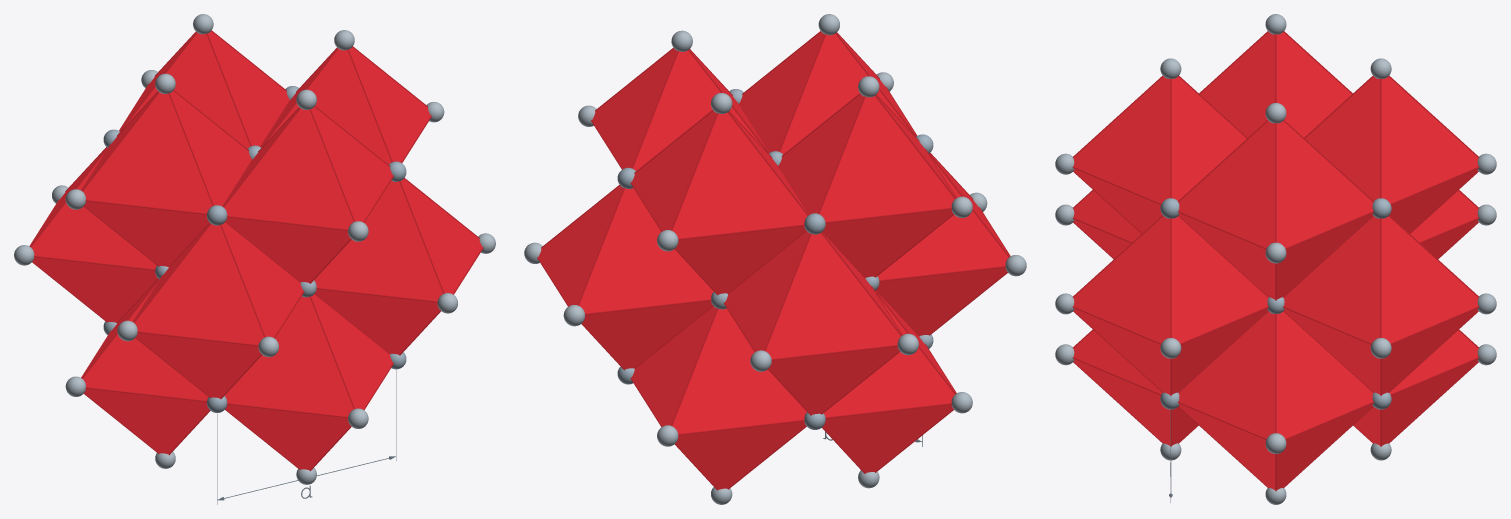
File: kfz-kugelmittelpunkte.glb
The picture shows the model from 3 angles, left to right: view 1: azimuth 30°, elevation 25°; view 2: azimuth 150°, elevation 25°; view 3: azimuth 270°, elevation 25°; orthographic projection. The views are drawn at different scales.
Visible parts, largest first — view 1: oktaeder_kante_z01_flaechen, oktaeder_kante_y01_flaechen, oktaeder_kante_x11_flaechen, oktaeder_kante_y11_flaechen, oktaeder_kante_x01_flaechen, oktaeder_kante_y00_flaechen, oktaeder_kante_z00_flaechen, oktaeder_kante_x10_flaechen, oktaeder_kante_z11_flaechen, oktaeder_kante_x11_kanten, oktaeder_kante_y01_kanten, oktaeder_kante_z01_kanten (+15 smaller); view 2: oktaeder_kante_x10_flaechen, oktaeder_kante_z01_flaechen, oktaeder_kante_y00_flaechen, oktaeder_kante_x00_flaechen, oktaeder_kante_y10_flaechen, oktaeder_kante_y01_flaechen, oktaeder_kante_z00_flaechen, oktaeder_kante_x11_flaechen, oktaeder_kante_z11_flaechen, oktaeder_kante_x10_kanten, oktaeder_kante_y00_kanten, oktaeder_kante_z01_kanten (+15 smaller); view 3: oktaeder_kante_y10_flaechen, oktaeder_kante_y11_flaechen, oktaeder_kante_z10_flaechen, oktaeder_kante_z11_flaechen, oktaeder_kante_x10_flaechen, oktaeder_kante_x11_flaechen, oktaeder_kante_z01_flaechen, oktaeder_kante_x00_flaechen, oktaeder_kante_x01_flaechen, oktaeder_kante_y00_flaechen, oktaeder_kante_y01_flaechen, oktaeder_kante_y10_kanten (+15 smaller).
Boxes of the visible parts, left/top/right/bottom form: oktaeder_kante_z01_flaechen: left=81, top=91, right=251, bottom=266; oktaeder_kante_y01_flaechen: left=133, top=222, right=303, bottom=398; oktaeder_kante_x11_flaechen: left=223, top=107, right=392, bottom=282; oktaeder_kante_y11_flaechen: left=314, top=179, right=482, bottom=354; oktaeder_kante_x01_flaechen: left=224, top=294, right=392, bottom=470; oktaeder_kante_y00_flaechen: left=30, top=148, right=157, bottom=322; oktaeder_kante_z00_flaechen: left=82, top=279, right=209, bottom=454; oktaeder_kante_x10_flaechen: left=119, top=31, right=289, bottom=148; oktaeder_kante_z11_flaechen: left=261, top=47, right=430, bottom=164; oktaeder_kante_x11_kanten: left=222, top=106, right=393, bottom=283; oktaeder_kante_y01_kanten: left=133, top=223, right=304, bottom=399; oktaeder_kante_z01_kanten: left=81, top=90, right=248, bottom=266; oktaeder_kante_x10_flaechen: left=631, top=111, right=808, bottom=294; oktaeder_kante_z01_flaechen: left=778, top=94, right=955, bottom=277; oktaeder_kante_y00_flaechen: left=725, top=231, right=902, bottom=414; oktaeder_kante_x00_flaechen: left=631, top=306, right=806, bottom=489; oktaeder_kante_y10_flaechen: left=538, top=185, right=713, bottom=369; oktaeder_kante_y01_flaechen: left=876, top=153, right=1009, bottom=335; oktaeder_kante_z00_flaechen: left=823, top=290, right=955, bottom=472; oktaeder_kante_x11_flaechen: left=739, top=32, right=916, bottom=154; oktaeder_kante_z11_flaechen: left=592, top=48, right=769, bottom=170; oktaeder_kante_x10_kanten: left=630, top=110, right=809, bottom=295; oktaeder_kante_y00_kanten: left=723, top=231, right=902, bottom=415; oktaeder_kante_z01_kanten: left=781, top=93, right=956, bottom=277; oktaeder_kante_y10_flaechen: left=1283, top=216, right=1478, bottom=394; oktaeder_kante_y11_flaechen: left=1073, top=216, right=1268, bottom=394; oktaeder_kante_z10_flaechen: left=1178, top=311, right=1373, bottom=489; oktaeder_kante_z11_flaechen: left=1178, top=121, right=1373, bottom=299; oktaeder_kante_x10_flaechen: left=1305, top=76, right=1478, bottom=233; oktaeder_kante_x11_flaechen: left=1073, top=76, right=1246, bottom=233; oktaeder_kante_z01_flaechen: left=1200, top=32, right=1351, bottom=137; oktaeder_kante_x00_flaechen: left=1354, top=330, right=1478, bottom=445; oktaeder_kante_x01_flaechen: left=1073, top=330, right=1197, bottom=445; oktaeder_kante_y00_flaechen: left=1410, top=190, right=1478, bottom=258; oktaeder_kante_y01_flaechen: left=1073, top=190, right=1141, bottom=258; oktaeder_kante_y10_kanten: left=1283, top=215, right=1479, bottom=395.
Bounding box in the file's own units: 2.1 × 2.18 × 2.1.
